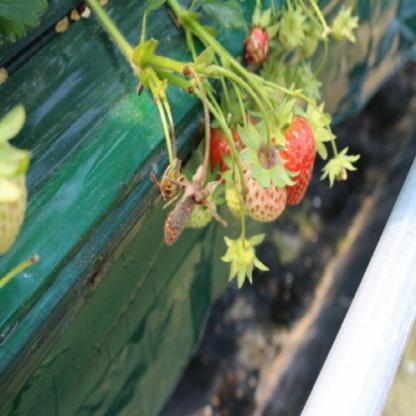Strawberry_Gray_Mold: (164, 162, 228, 246)
